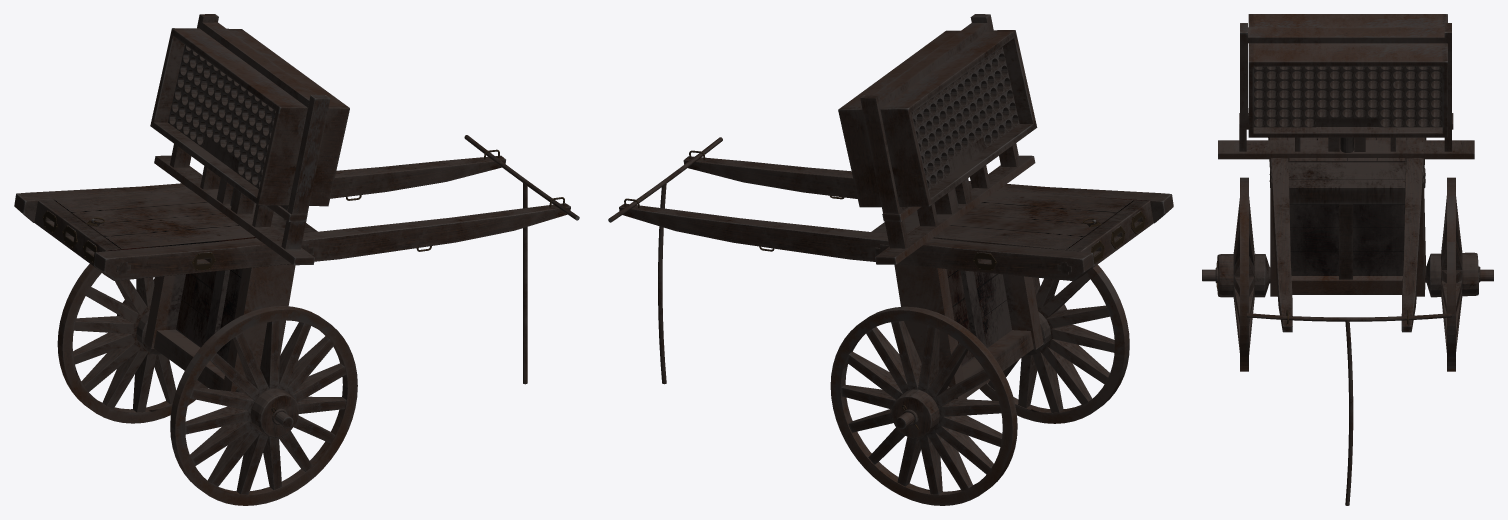
Rendered from SM_Hwacha_DirectMode.fbx.
3 renders of one model, left to right at view 1: azimuth 30°, elevation 25°; view 2: azimuth 150°, elevation 25°; view 3: azimuth 270°, elevation 25°, orthographic. The views are drawn at different scales.
Visible parts, largest first — view 1: SM_Hwacha_DirectMode; view 2: SM_Hwacha_DirectMode; view 3: SM_Hwacha_DirectMode.
Boxes of the visible parts, x1,y1,x2,y2 form: SM_Hwacha_DirectMode: (14, 14, 579, 505); SM_Hwacha_DirectMode: (608, 14, 1173, 505); SM_Hwacha_DirectMode: (1202, 14, 1493, 505).
Size of the model in its own units: 229 by 131 by 180.
1 material, 1 textured.
